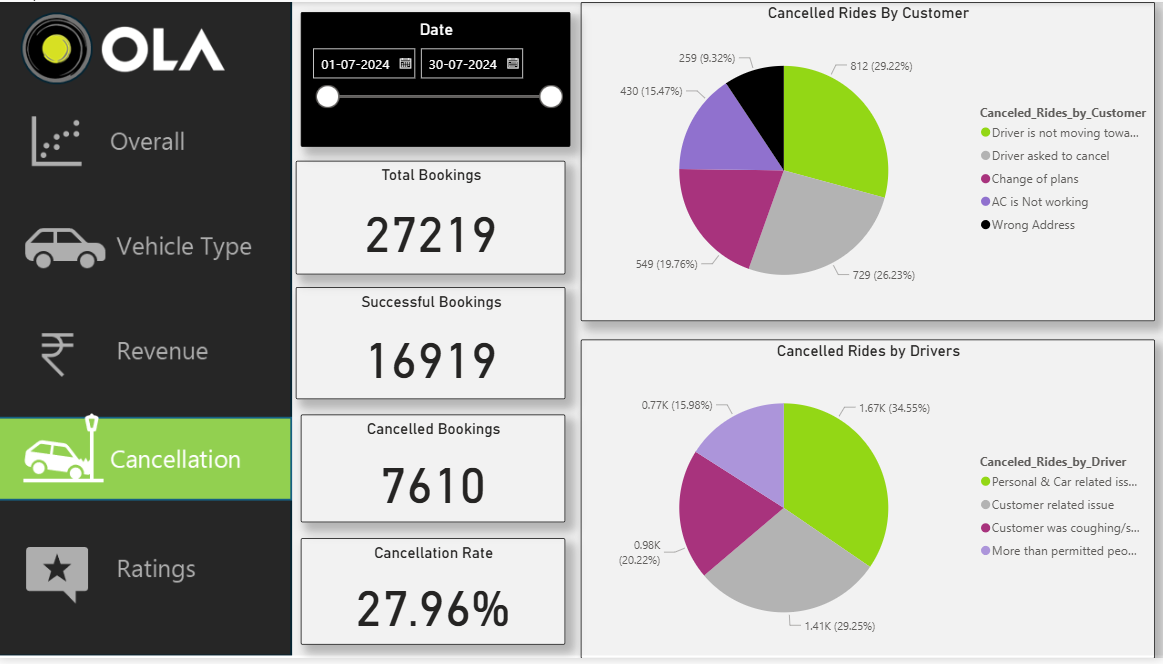

Layout of this report page (visuals, bound fields, positions):
{"tool":"powerbi","page":{"name":"Cancellation","canvas":[1280,720],"ordinal":3},"visuals":[{"type":"actionButton","box":[0,223.2,322.1,101.3],"z":0},{"type":"actionButton","box":[0,339,322.1,101.3],"z":1000},{"type":"actionButton","box":[0,453.6,322.1,101.3],"z":2000},{"type":"actionButton","box":[0,571.9,322.1,101.3],"z":3000},{"type":"actionButton","box":[0,112.2,322.1,92.9],"z":4000},{"type":"pieChart","title":"Cancelled Rides By Customer","fields":{"Category":["ola-bookings.Canceled_Rides_by_Customer"],"Y":["CountNonNull(ola-bookings.Canceled_Rides_by_Customer)"]},"box":[640.1,0,630.4,350.1],"z":5000},{"type":"pieChart","title":"Cancelled Rides by Drivers","fields":{"Category":["ola-bookings.Canceled_Rides_by_Driver"],"Y":["CountNonNull(ola-bookings.Canceled_Rides_by_Driver)"]},"box":[640.1,371,630.4,350.1],"z":6000},{"type":"slicer","title":"Date","fields":{"Values":["ola-bookings.Date"]},"box":[333.4,10.4,296.4,148.2],"z":7000},{"type":"card","title":"Total Bookings","fields":{"Values":["Count(ola-bookings.Booking_ID)"]},"box":[327.5,174.9,296.4,124.5],"z":8000},{"type":"card","title":"Successful Bookings","fields":{"Values":["Count(ola-bookings.Booking_ID)"]},"box":[327.5,312.7,296.4,123],"z":9000},{"type":"card","title":"Cancelled Bookings","fields":{"Values":["Count(ola-bookings.Booking_ID)"]},"box":[333.4,453.4,290.4,118.5],"z":10000},{"type":"card","title":"Cancellation Rate","fields":{"Values":["july.CanceledPercentage"]},"box":[333.4,588.3,290.4,117.1],"z":11000}]}

Visuals, with their boxes in screenshot pixels (x1, y1, x2, y2), scaled from the page's 1280x720 canvas onto the 1163x664 screenshot:
actionButton: [0, 206, 293, 299]
actionButton: [0, 313, 293, 406]
actionButton: [0, 418, 293, 512]
actionButton: [0, 527, 293, 621]
actionButton: [0, 103, 293, 189]
"Cancelled Rides By Customer" pieChart: [582, 0, 1154, 323]
"Cancelled Rides by Drivers" pieChart: [582, 342, 1154, 663]
"Date" slicer: [303, 10, 572, 146]
"Total Bookings" card: [298, 161, 567, 276]
"Successful Bookings" card: [298, 288, 567, 402]
"Cancelled Bookings" card: [303, 418, 567, 527]
"Cancellation Rate" card: [303, 543, 567, 651]
